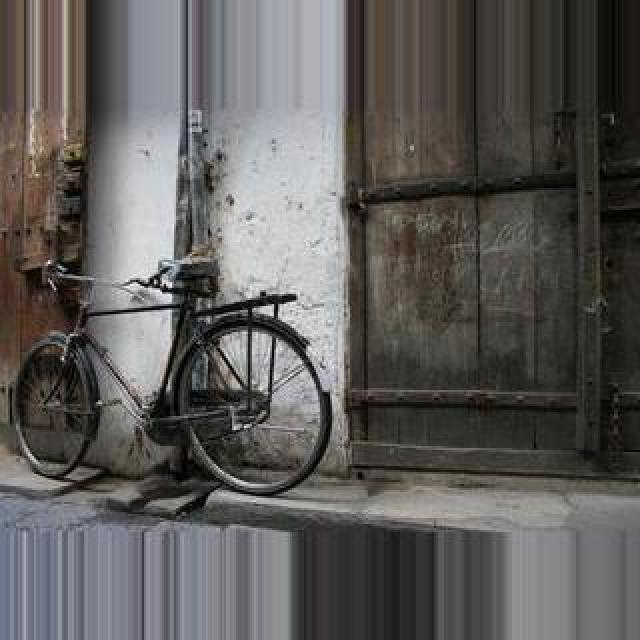Person: (6, 252, 334, 498)
